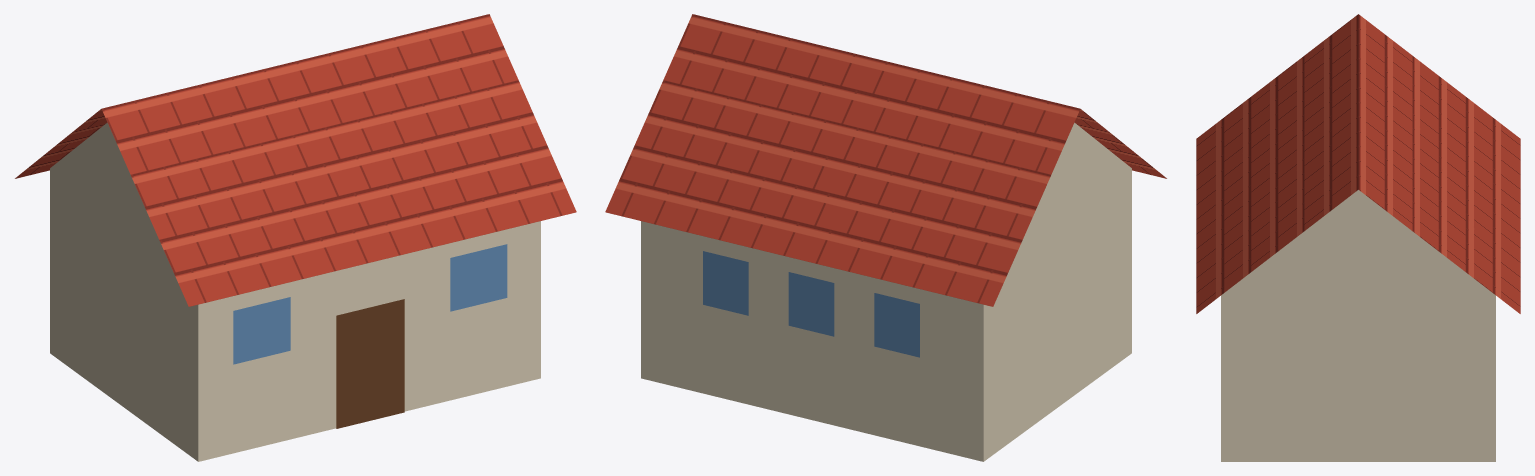
The model's file is house.obj.
3 views of the same model, side by side, from view 1: azimuth 30°, elevation 25°; view 2: azimuth 150°, elevation 25°; view 3: azimuth 270°, elevation 25° (orthographic). The views are drawn at different scales.
Size of the model in its own units: 1.36 by 1.02 by 1.06.
4 materials, 1 textured.
